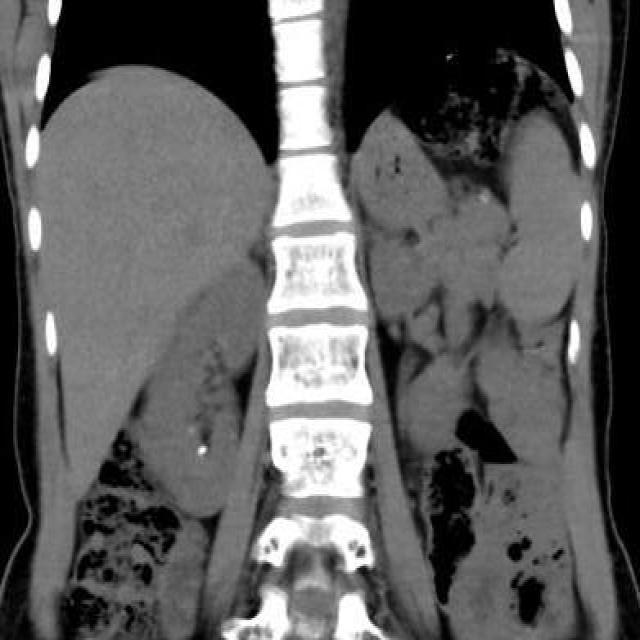Tas_Var: (198, 442, 210, 458), (188, 427, 200, 439)
